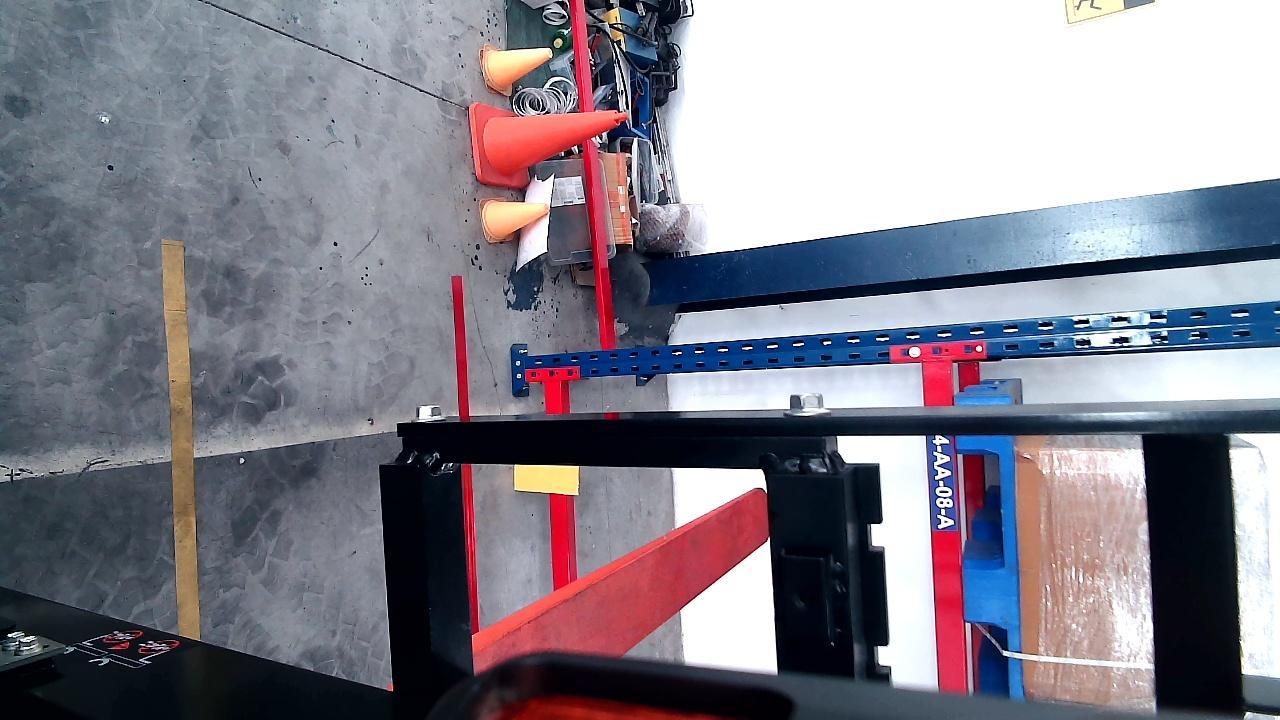red_line: (450, 275, 483, 632)
yellow_line: (168, 233, 199, 641)
